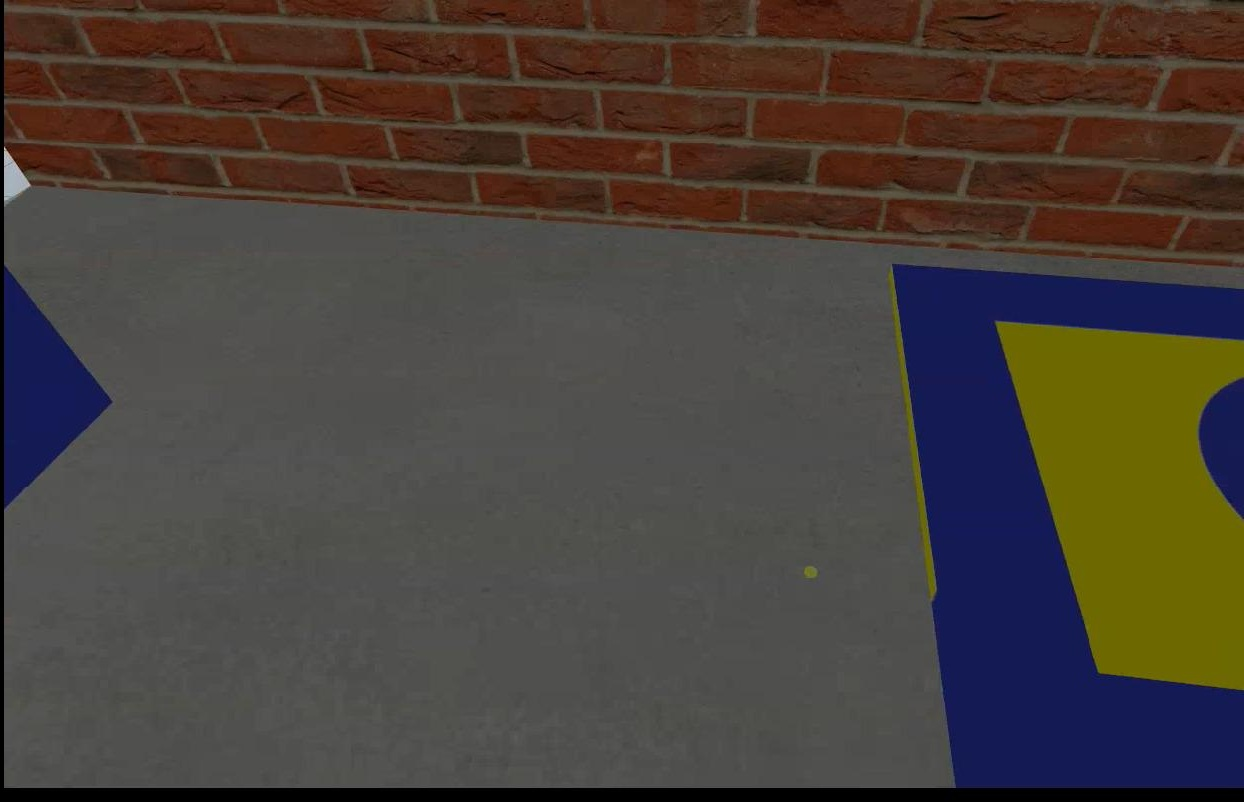large_base: (881, 259, 1242, 784)
